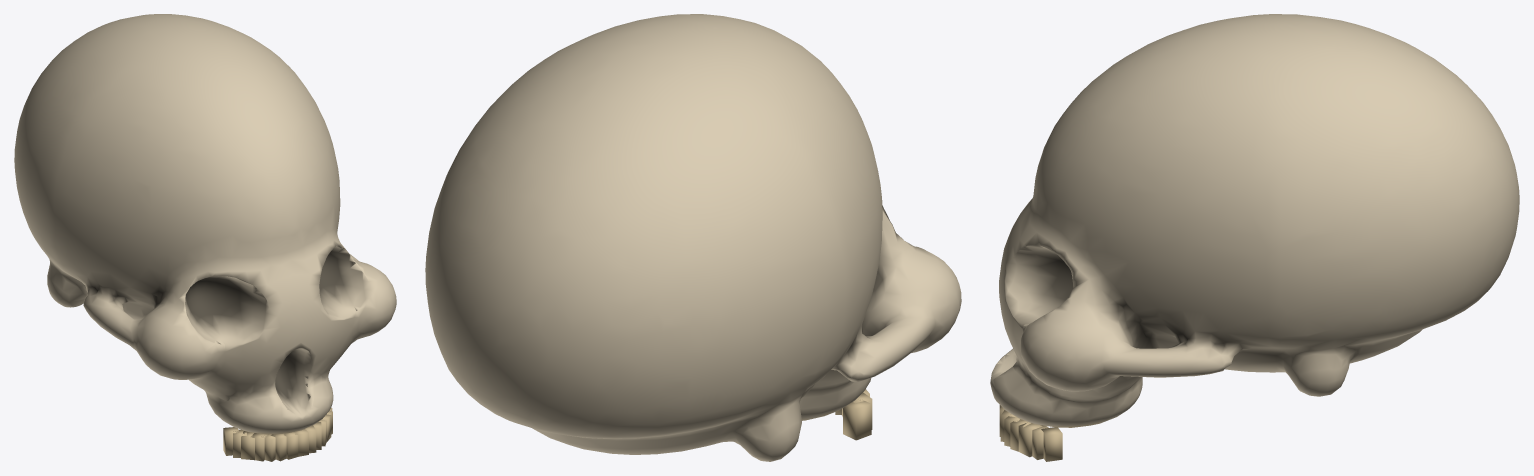
Rendered from skull.glb.
The picture shows the model from 3 angles, left to right: view 1: azimuth 30°, elevation 25°; view 2: azimuth 150°, elevation 25°; view 3: azimuth 270°, elevation 25°; orthographic projection. The views are drawn at different scales.
Parts seen in each view (by area): view 1: Sphere; view 2: Sphere; view 3: Sphere.
Boxes of the visible parts, x1,y1,x2,y2 form: Sphere: (14,14,396,461); Sphere: (425,14,961,461); Sphere: (990,14,1519,461).
Size of the model in its own units: 0.1394 by 0.1684 by 0.2017.
